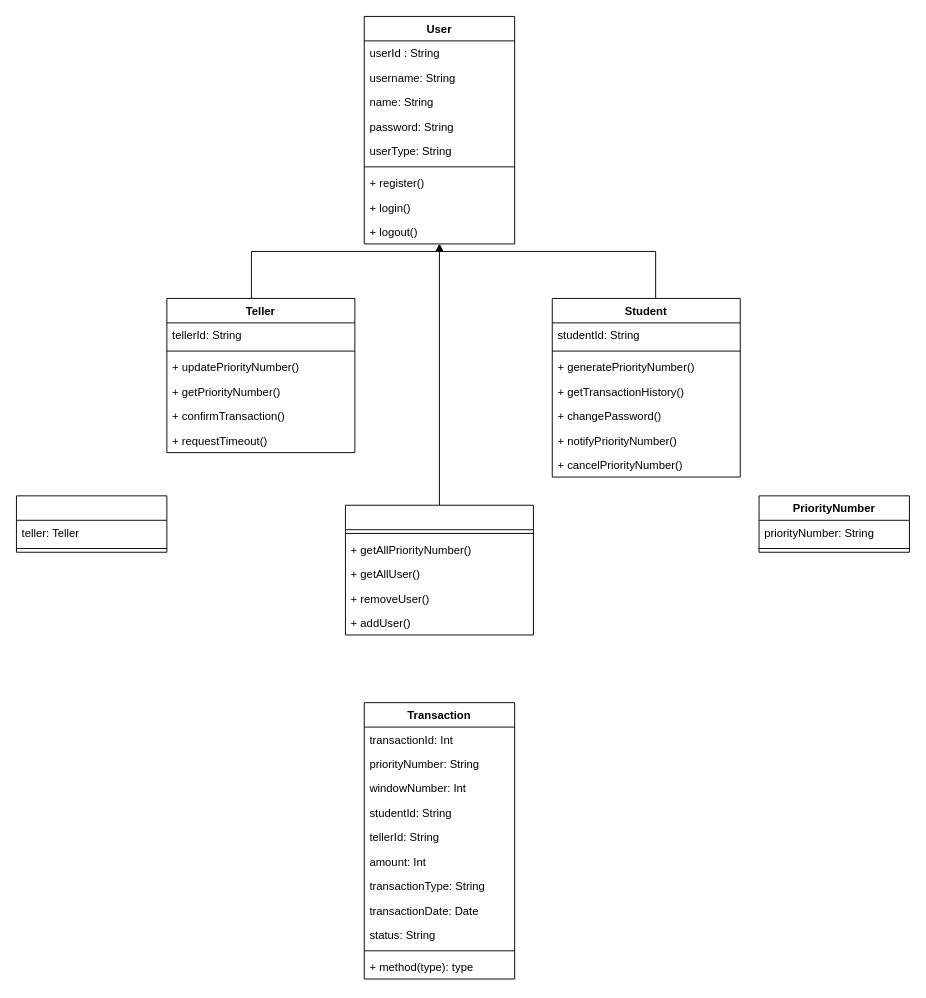
Image size: 926x998. Some labels were removed from this diagram. Here are the shapes that lost their labels. From the top down, the box of each, then its label:
(16, 495, 167, 552): TellerWindow
(345, 504, 533, 635): Admin
